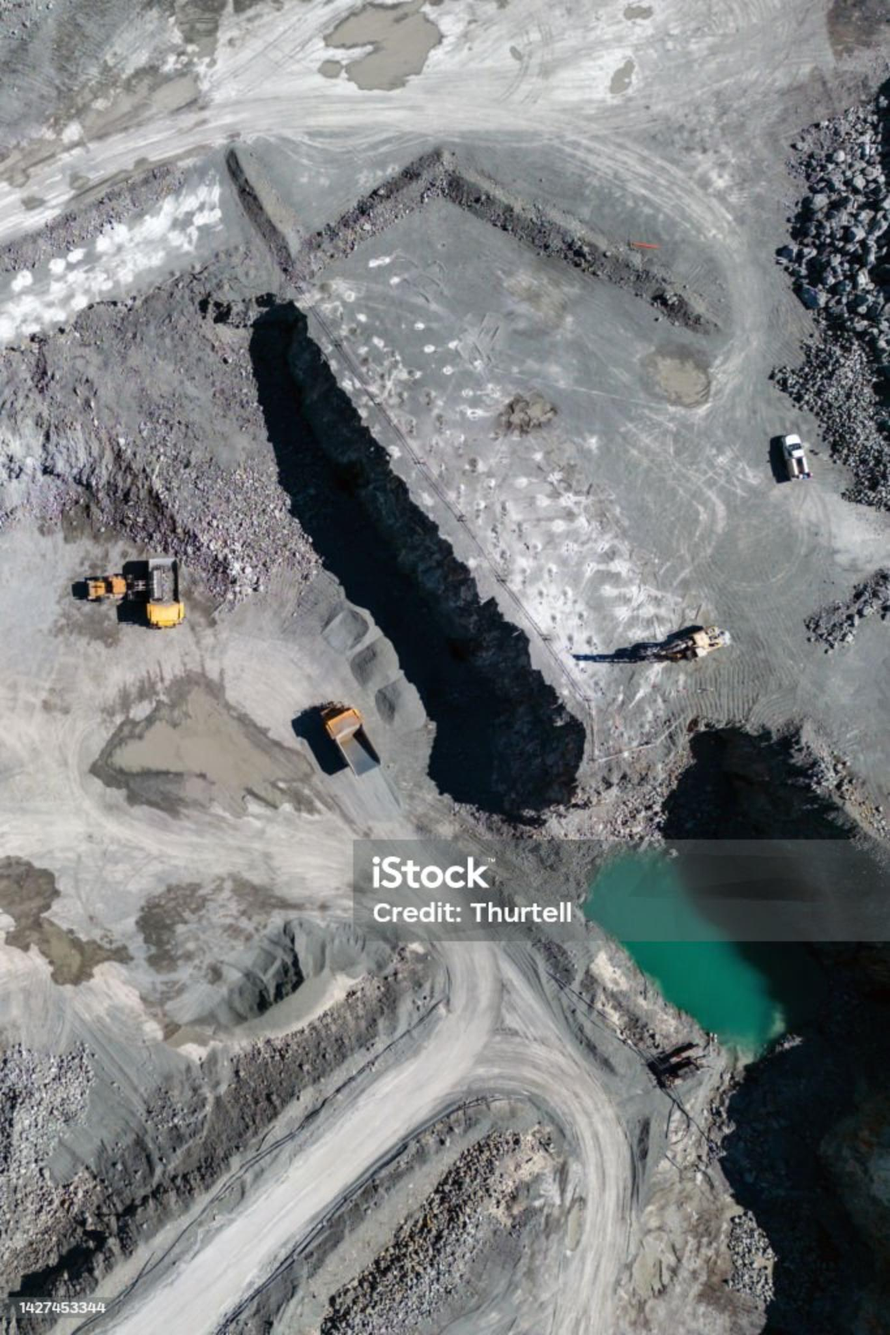benches: (96, 945, 633, 1334)
excavator: (591, 618, 748, 668), (73, 562, 136, 609)
truck: (318, 703, 379, 774), (145, 558, 184, 627)
